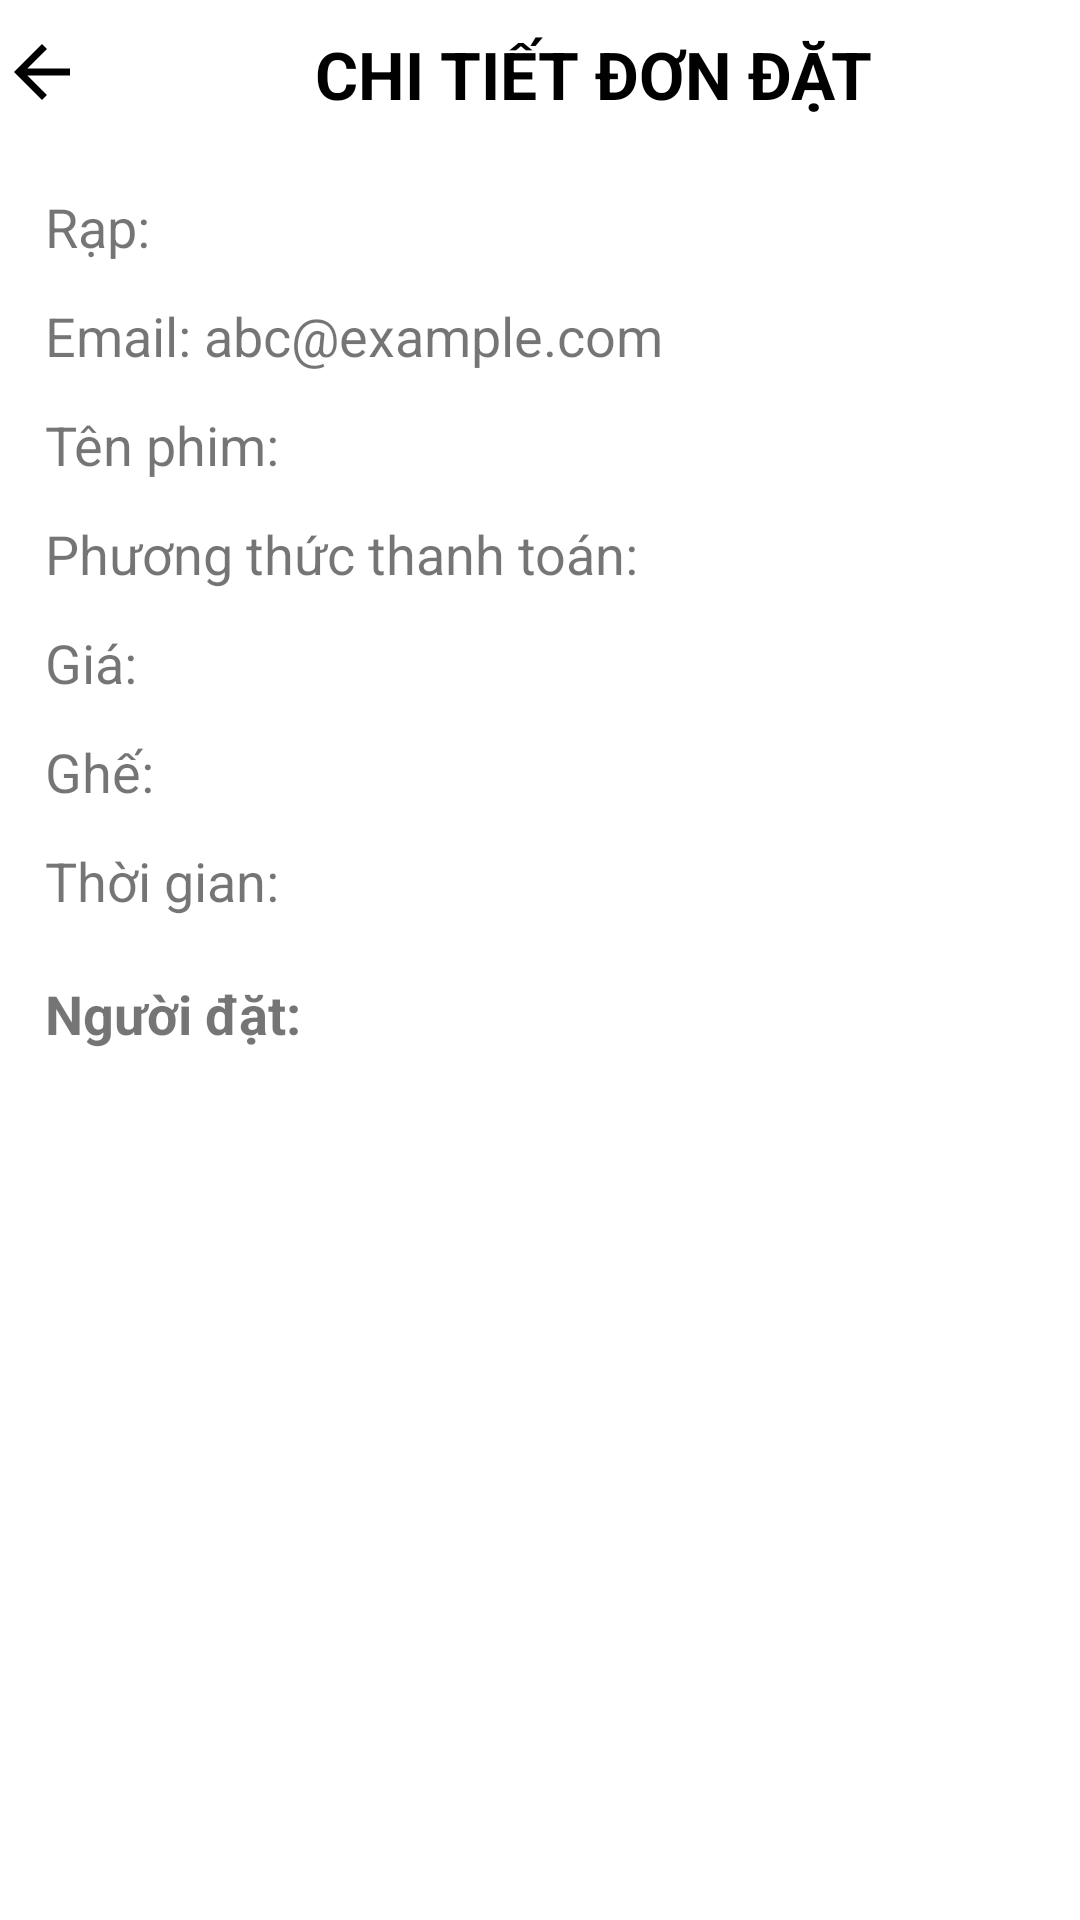

Locate icon controls on the screen. Image size 1080 x 1920, boxes as [x1,y1,x2,y2].
Quay lại: [14,44,70,100]
